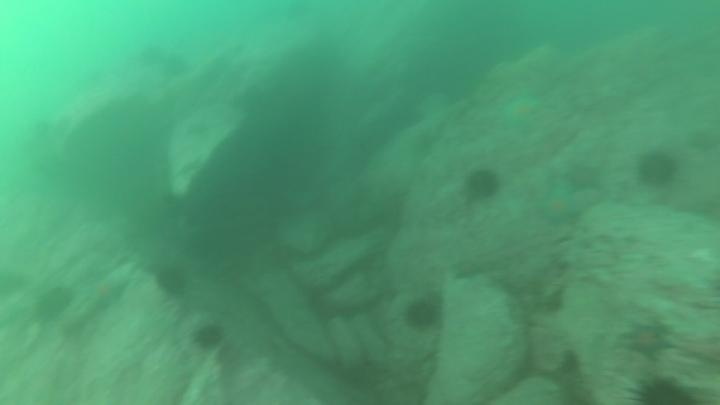echinus: (626, 374, 699, 404), (634, 148, 680, 190), (32, 283, 76, 325), (402, 295, 443, 333), (462, 166, 503, 203), (153, 263, 191, 299), (190, 321, 227, 353), (685, 125, 720, 157), (159, 51, 192, 82), (135, 42, 168, 70)
starfish: (620, 319, 678, 363), (85, 270, 132, 315), (535, 185, 584, 228), (499, 92, 545, 133), (561, 159, 606, 196), (448, 256, 489, 285)
